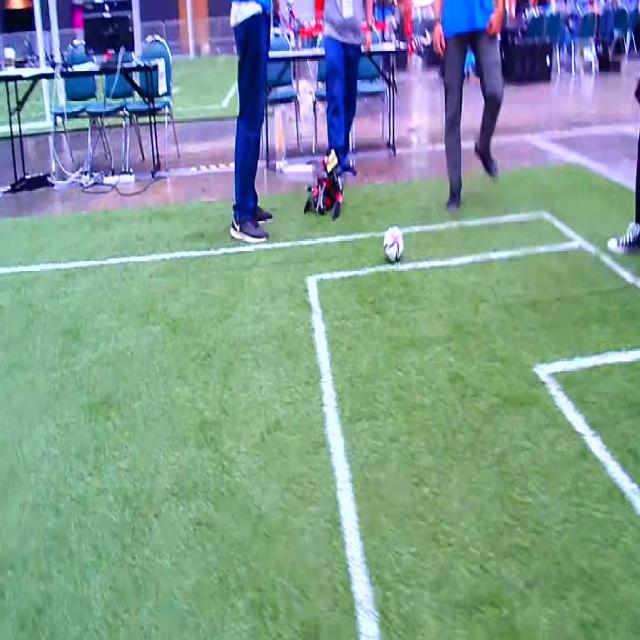ball: (384, 224, 404, 264)
